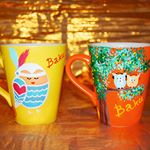cups: (65, 40, 150, 126), (1, 42, 68, 127)
